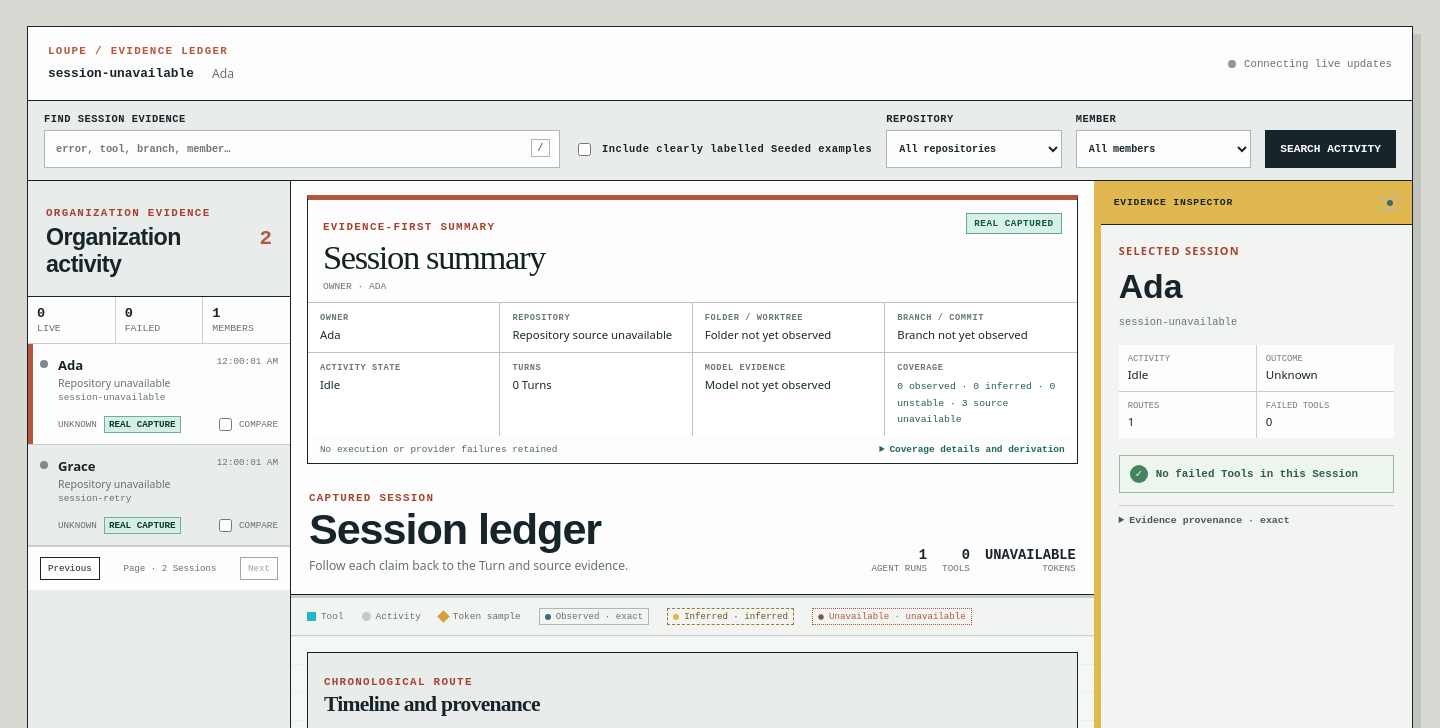
Test: a failed Session open keeps evidence visible and retries the requested Session
Expected: the heading "Ada" is shown, [1119, 267, 1183, 305]
Click the button "Grace Repository unavailable session-retry 12:00:01 AM".
click(159, 480)  # box [28, 445, 290, 516]
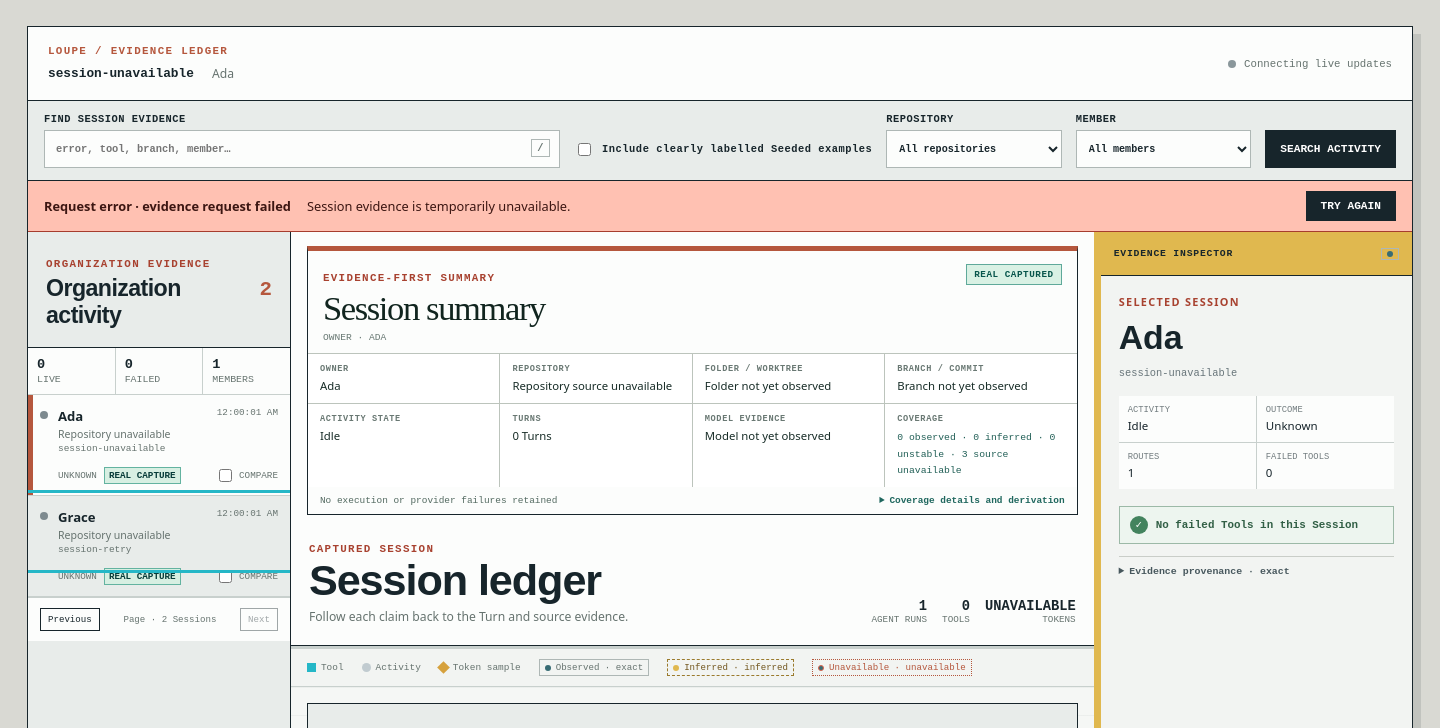
Expected: the heading "Ada" is shown, [1119, 318, 1183, 356]
Expected: the message that starts with "Request error · evidence request failed" shows "Session evidence is temporarily unavailable.", [307, 197, 570, 215]
Click the button "Try again".
click(1351, 206)  # box [1306, 191, 1396, 221]
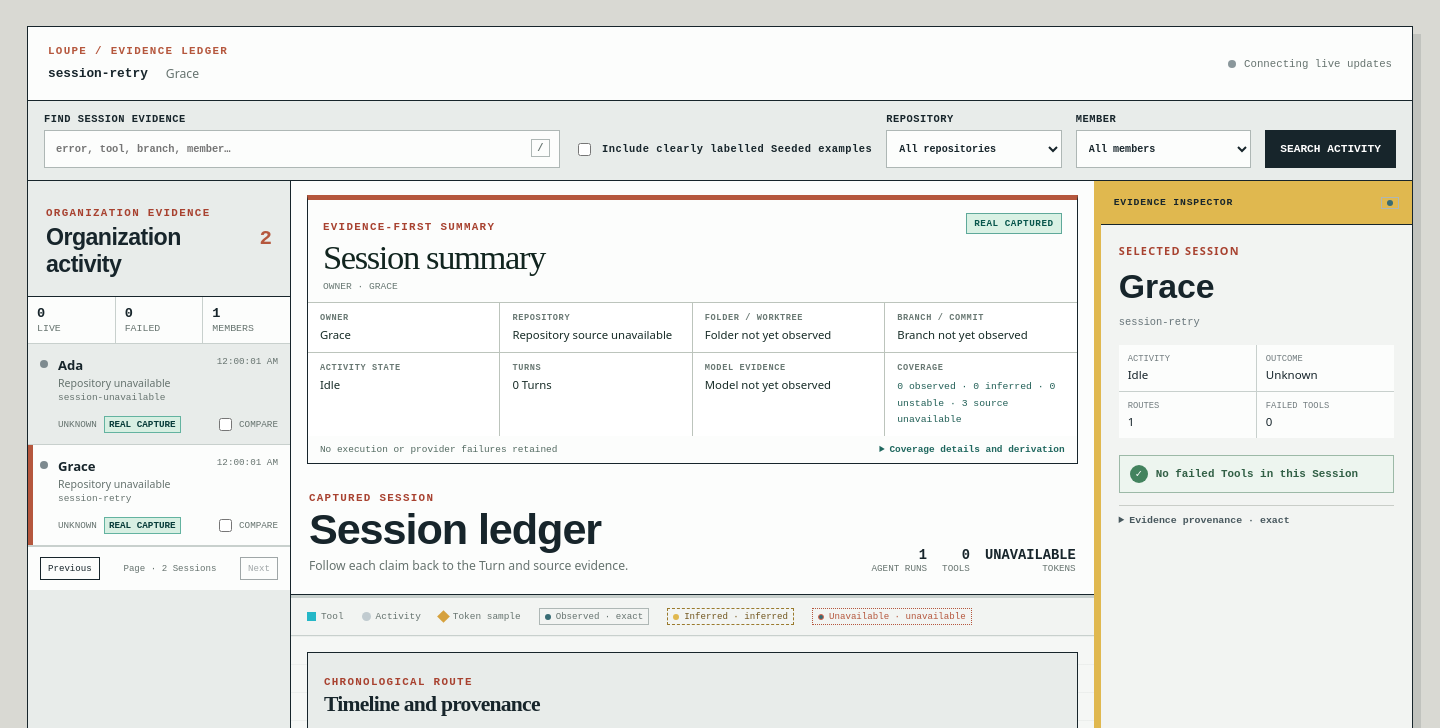
Expected: the heading "Grace" is shown, [1119, 267, 1215, 305]
